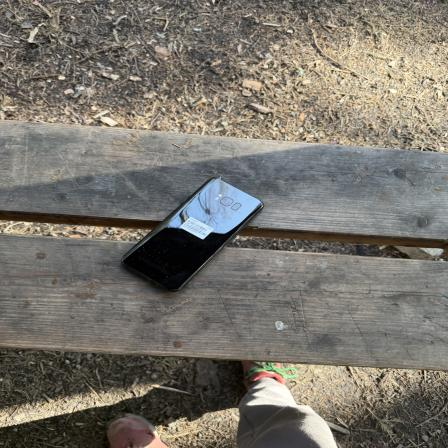phone: (124, 177, 267, 291)
